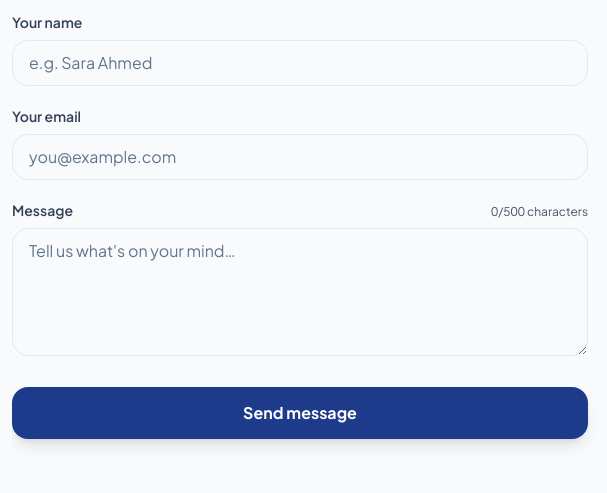
ContactForm › validates the email format
The width and height of the screenshot is (607, 493).
In the field labelled "Your name": (300, 63) x1=12 y1=40 x2=588 y2=86, type "Sara"
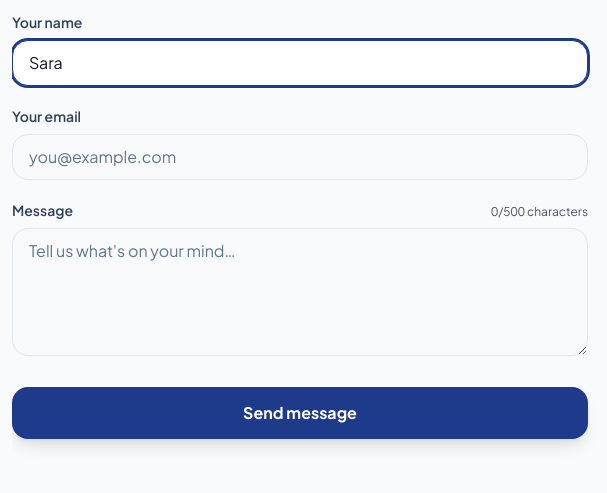
In the field labelled "Your email": (300, 157) x1=12 y1=134 x2=588 y2=180, type "not-an-email"
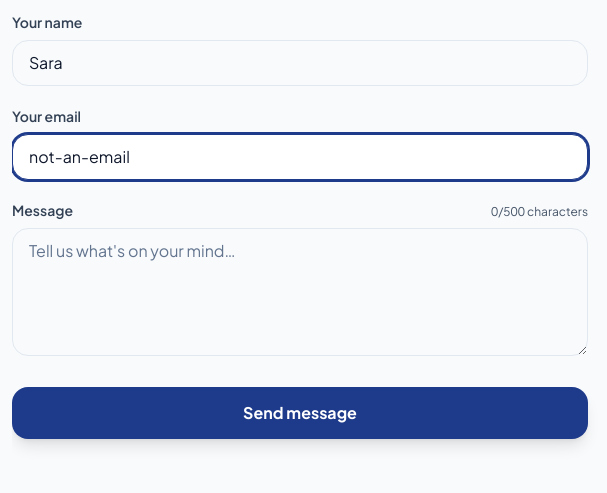
In the text box labelled "Message": (300, 292) x1=12 y1=228 x2=588 y2=356, type "Hello"
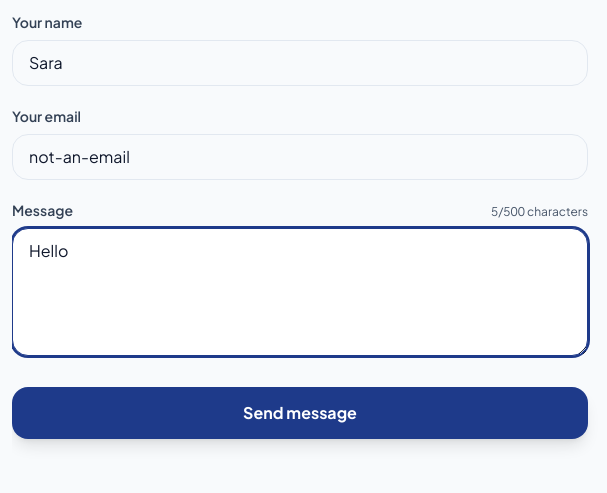
Click the button "Send message": (300, 413) x1=12 y1=387 x2=588 y2=439
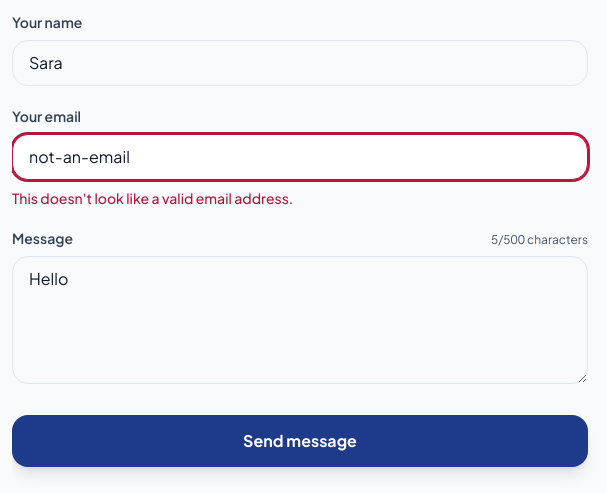
Expected: the text "This doesn't look like a valid email address." is shown, x1=12 y1=189 x2=293 y2=207
